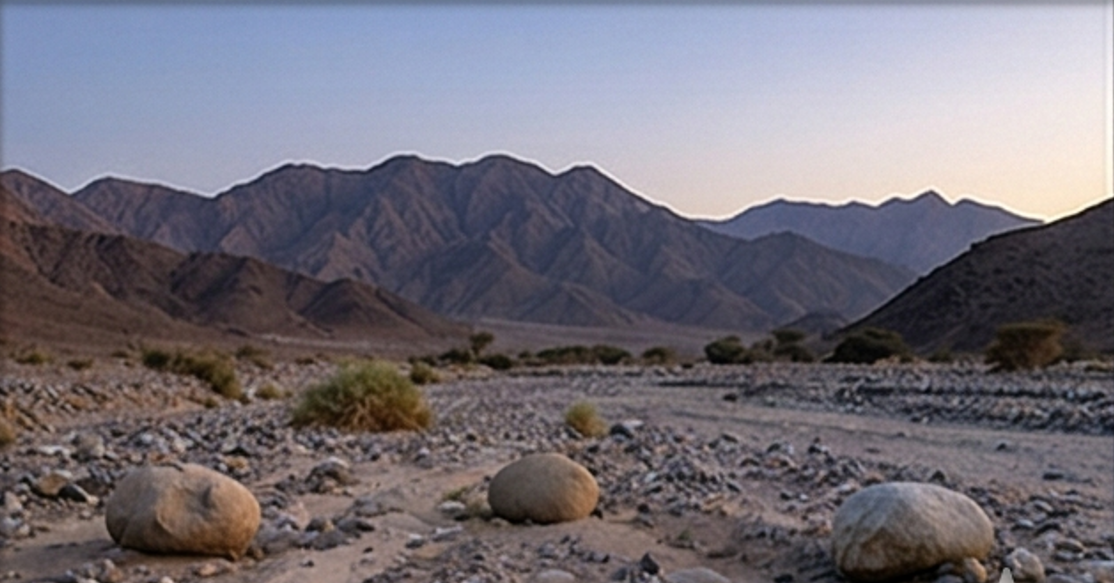rocks: (831, 482, 994, 581), (106, 464, 260, 558), (488, 453, 599, 523)
